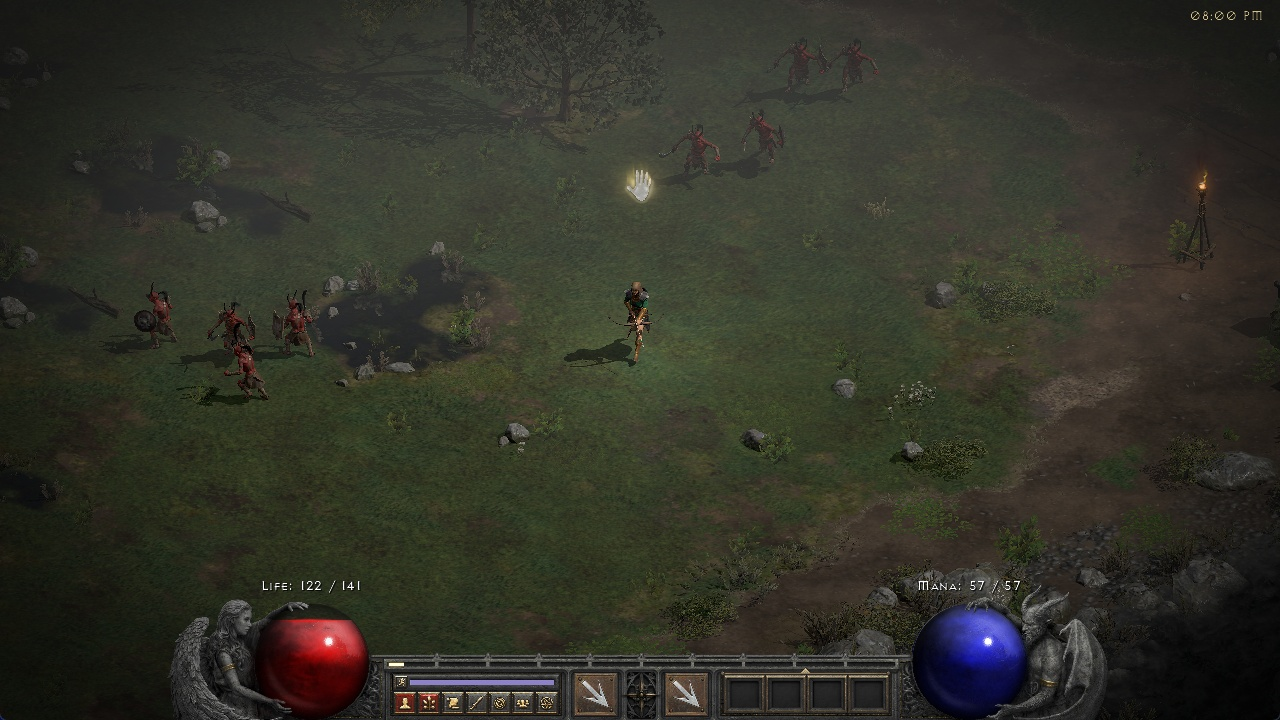fallen: (762, 41, 825, 96), (658, 124, 721, 178), (134, 286, 183, 347), (270, 297, 321, 355), (223, 344, 273, 403), (741, 111, 786, 164), (835, 41, 879, 94), (209, 299, 253, 328)
